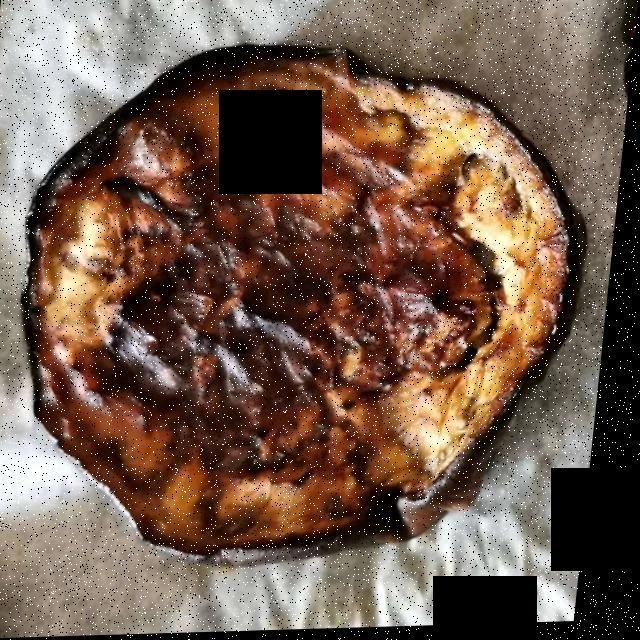eggplant: (30, 58, 565, 557)
